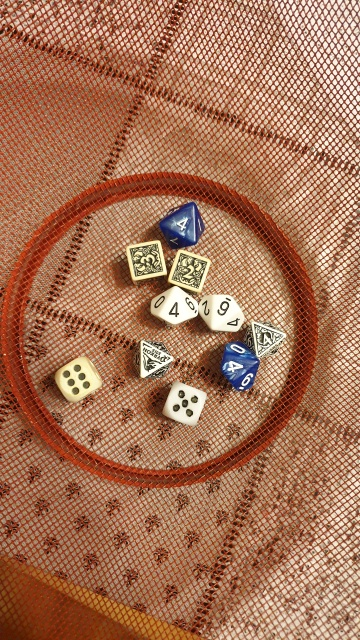d10-4: (213, 339, 263, 397), (158, 196, 206, 252), (148, 282, 204, 328)
d10-6: (198, 289, 245, 335)
d6-5: (158, 379, 206, 427)
d6-6: (51, 354, 106, 404)
d6p-2: (165, 246, 210, 291)
d6p-3: (124, 238, 168, 284)
d8p-1: (131, 336, 181, 385)
d8p-4: (240, 316, 288, 361)
